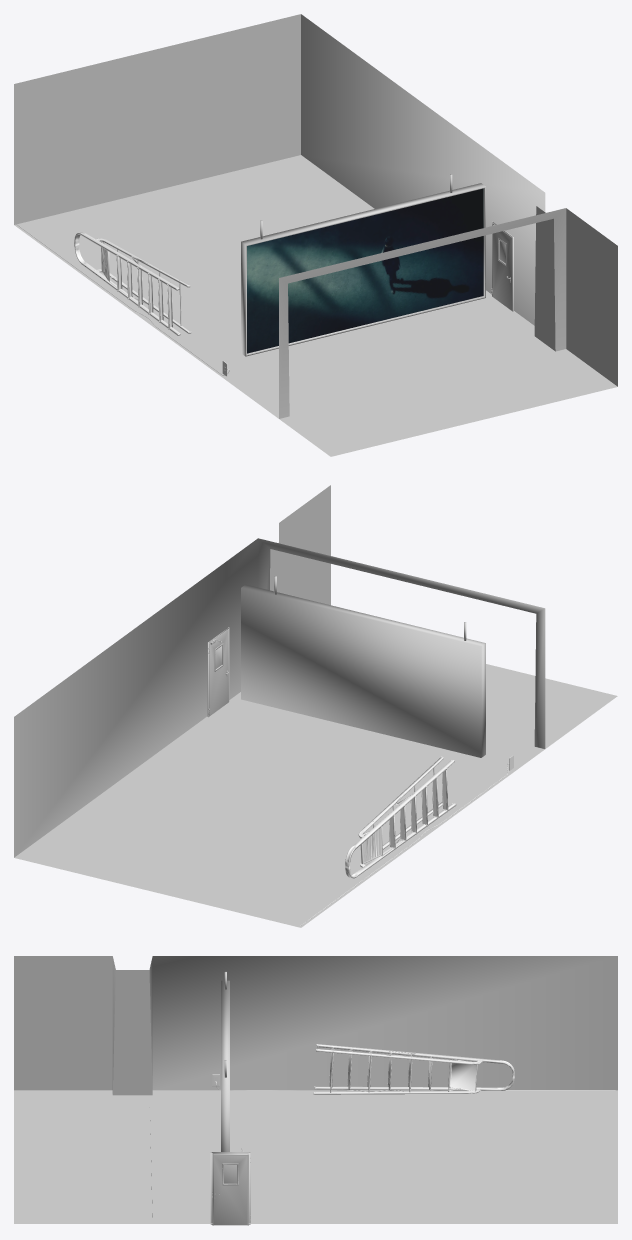
Rendered from finall.glb.
3 views of the same model, one above another, from view 1: azimuth 30°, elevation 25°; view 2: azimuth 150°, elevation 25°; view 3: azimuth 270°, elevation 25° (orthographic). The views are drawn at different scales.
Visible parts, largest first — view 1: room, baseplane, tv, screen, ladder, Door; view 2: baseplane, room, screen, ladder, Door; view 3: room, baseplane, ladder, Door, screen, wires.
Part boxes in pixels (x1,y1,x2,y2): room: (14,14,617,418); baseplane: (14,155,617,456); tv: (247,188,483,353); screen: (241,174,485,356); ladder: (74,232,191,335); Door: (491,221,513,311); baseplane: (14,664,617,927); room: (14,485,545,857); screen: (241,576,485,757); ladder: (345,756,456,878); Door: (207,627,229,717); room: (14,956,617,1217); baseplane: (14,1090,617,1223); ladder: (313,1044,514,1094); Door: (210,1148,250,1225); screen: (221,971,229,1151); wires: (212,1074,615,1091).
Size of the model in its own units: 4.28 by 2.07 by 8.15.
Materials: 5 (1 with a texture image).
